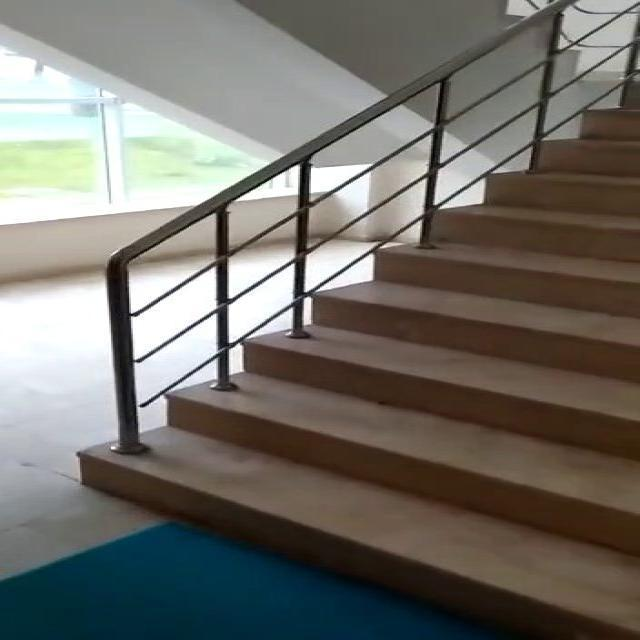stairs: (76, 77, 638, 639)
